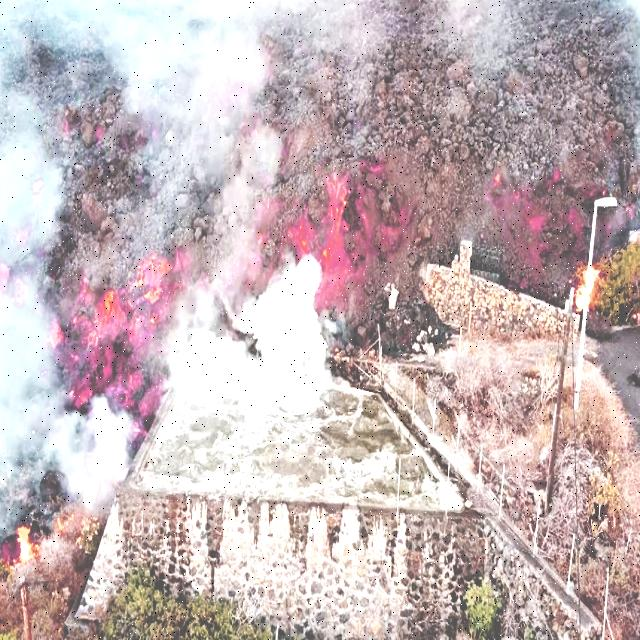api: (87, 242, 169, 396), (316, 170, 358, 270), (9, 519, 45, 579)
asap: (12, 2, 293, 186), (183, 269, 343, 406), (5, 128, 57, 484), (50, 399, 137, 511)
